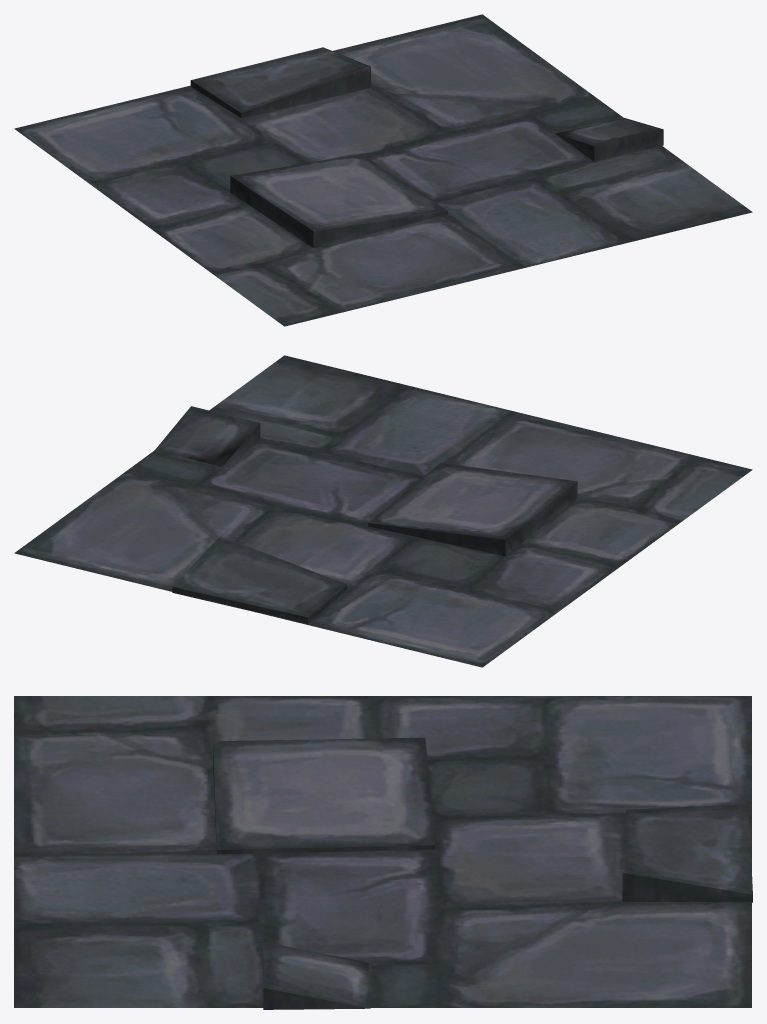
The model's file is crypt_floor_blank_02.fbx.
3 renders of one model, top to bottom at view 1: azimuth 30°, elevation 25°; view 2: azimuth 150°, elevation 25°; view 3: azimuth 270°, elevation 25°, orthographic. The views are drawn at different scales.
Parts seen in each view (by area): view 1: crypt_tileset/crypt_floor01_shadow; view 2: crypt_tileset/crypt_floor01_shadow; view 3: crypt_tileset/crypt_floor01_shadow.
Part boxes in pixels (box(x1,y1,x2,y2)): crypt_tileset/crypt_floor01_shadow: box(14, 14, 752, 326); crypt_tileset/crypt_floor01_shadow: box(14, 355, 752, 667); crypt_tileset/crypt_floor01_shadow: box(14, 696, 752, 1009).
Bounding box in the file's own units: 4.02 × 0.302 × 4.01.
